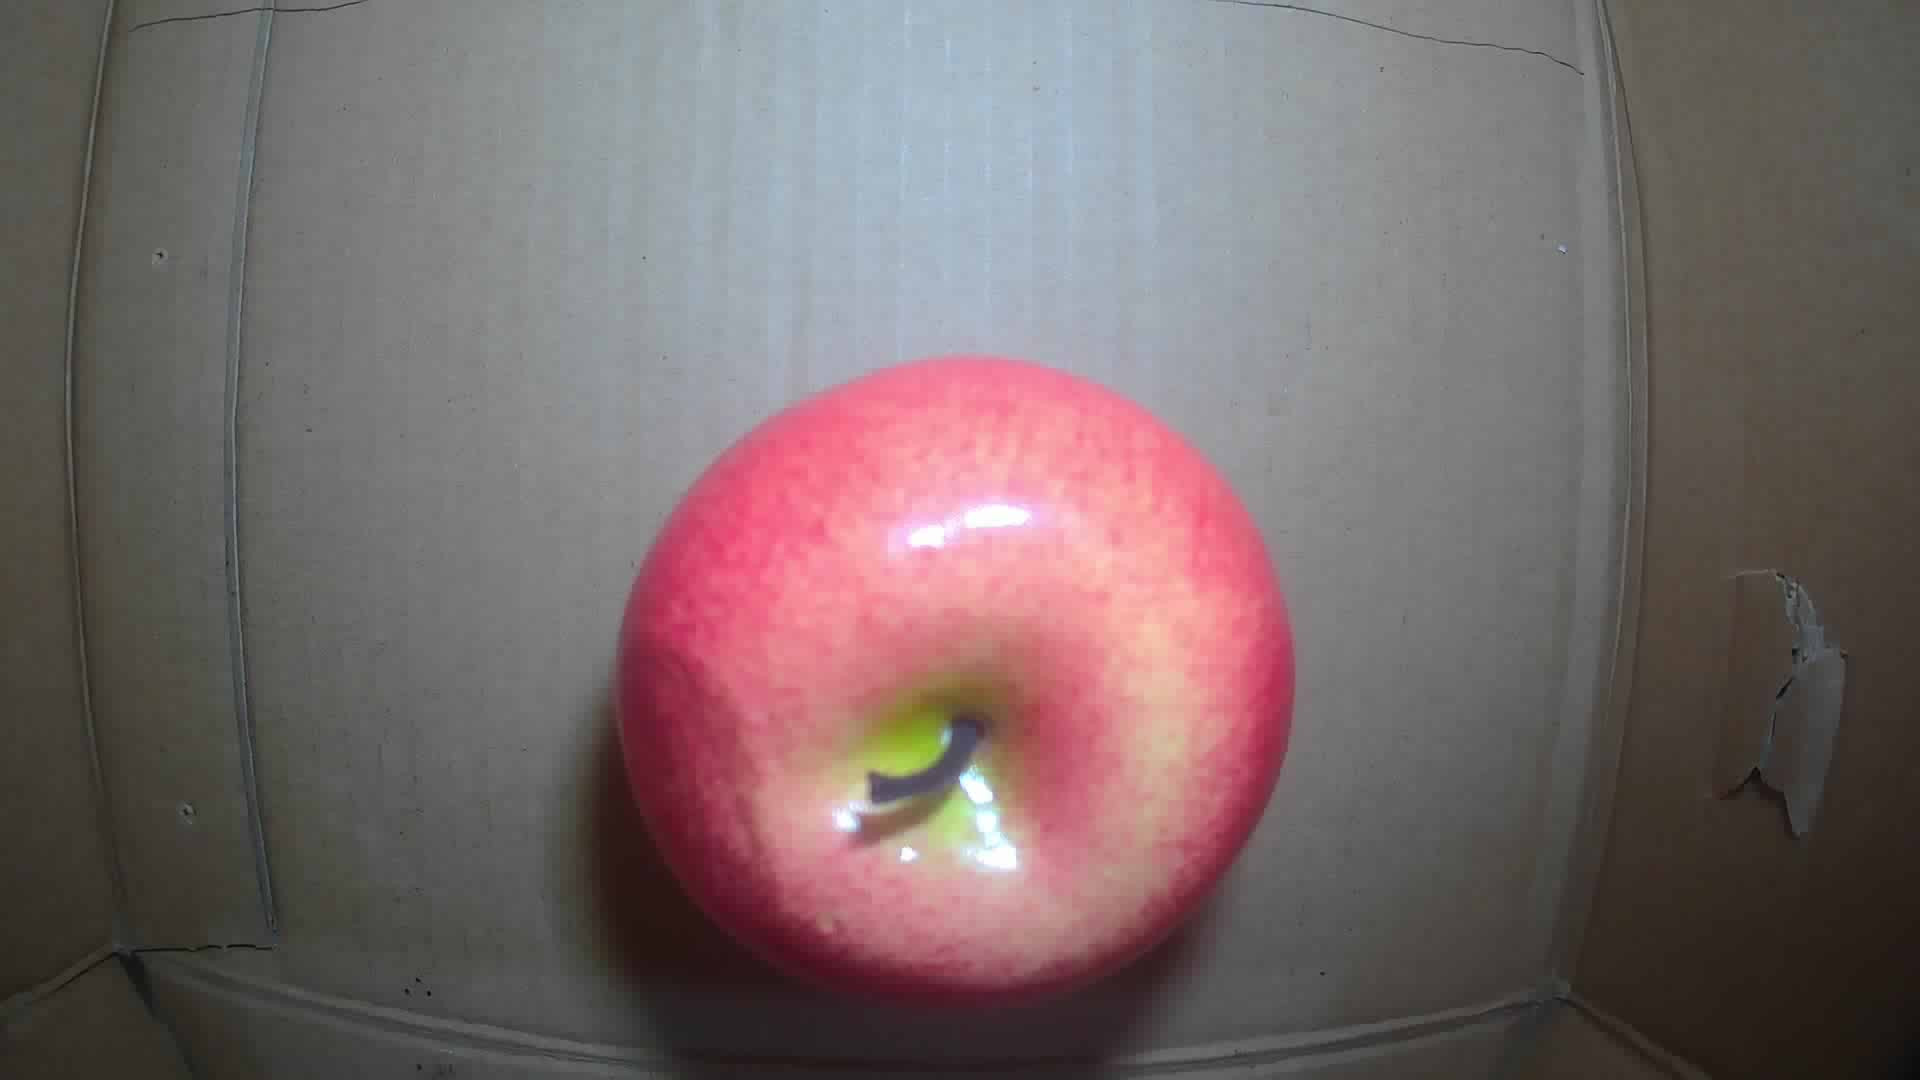apple: (612, 353, 1299, 1011)
